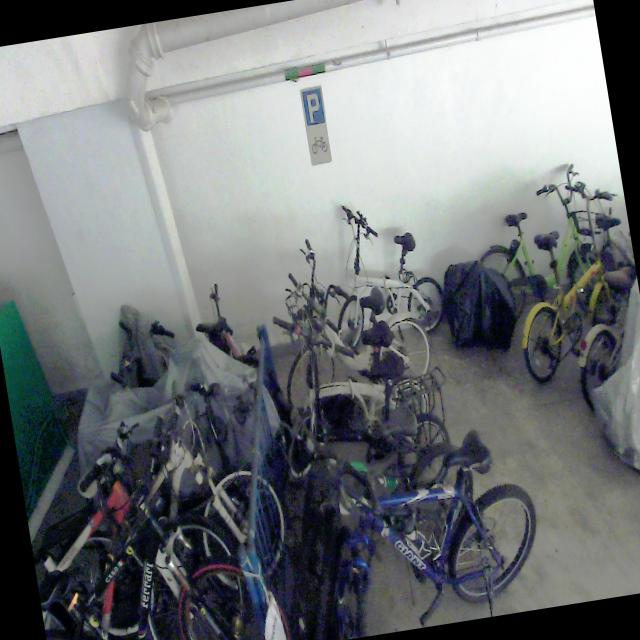bike: (40, 366, 299, 640), (15, 401, 293, 640), (278, 420, 550, 640), (15, 407, 255, 640), (274, 346, 461, 540), (263, 222, 437, 410), (265, 293, 438, 482), (464, 159, 630, 345), (498, 174, 640, 382), (319, 191, 450, 349)
